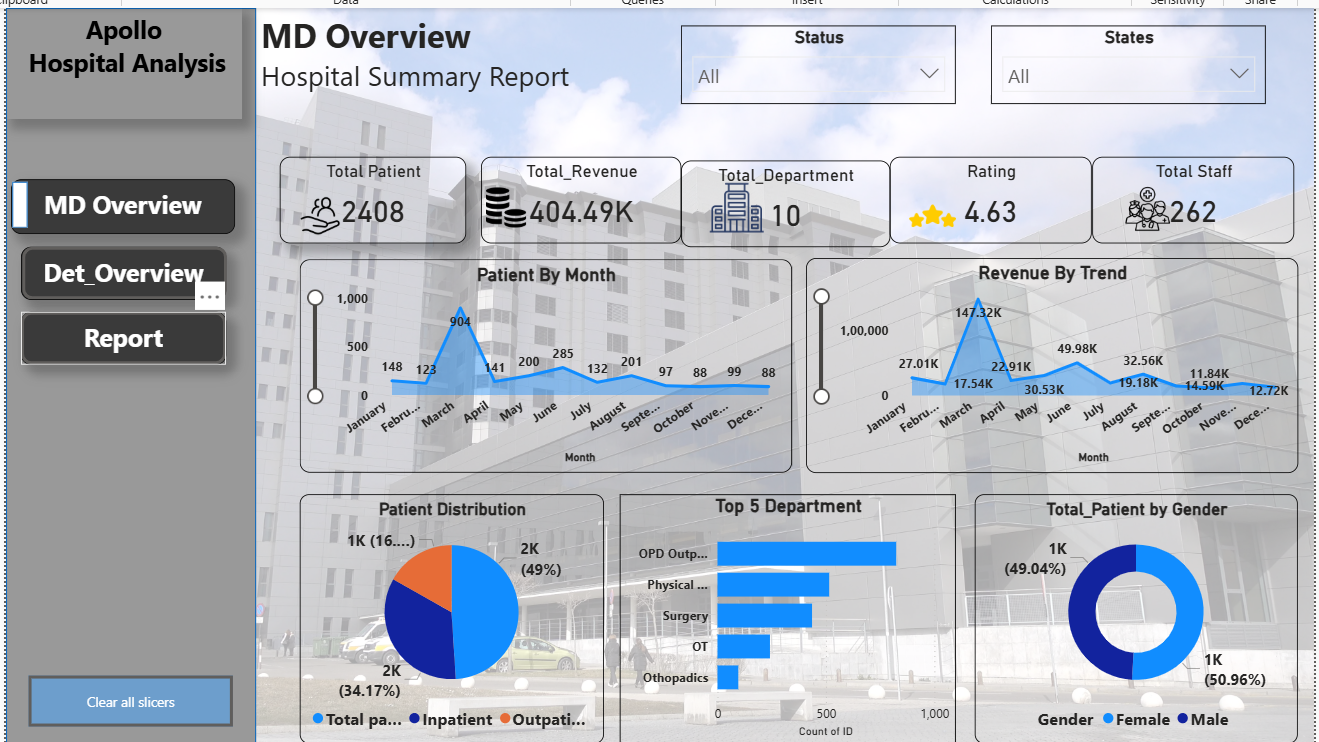

Layout of this report page (visuals, bound fields, positions):
{"tool":"powerbi","page":{"name":"MD Overview","canvas":[1280,720],"ordinal":0},"visuals":[{"type":"card","title":"Total Patient","fields":{"Values":["All Measure.Total patient"]},"box":[268.4,145.6,182.5,85.2],"z":0},{"type":"textbox","box":[244,0,379.3,108.6],"z":1000},{"type":"card","title":"Total_Revenue","fields":{"Values":["All Measure.Total_Treatment"]},"box":[464.2,145,196.2,85.1],"z":2000},{"type":"card","title":"Total_Department","fields":{"Values":["All Measure.Total_dept"]},"box":[660.4,148.9,204.5,85.1],"z":3000},{"type":"card","title":"Rating","fields":{"Values":["All Measure.Rating"]},"box":[864.9,145,197.6,85.1],"z":4000},{"type":"card","title":"Total Staff","fields":{"Values":["All Measure.Total_Staff"]},"box":[1062.5,145,197.6,85.1],"z":5000},{"type":"shape","box":[0,0,244.7,720.6],"z":6000},{"type":"image","box":[882.8,177,47.3,51.4],"z":7000},{"type":"image","box":[1073.4,173.3,86.5,46],"z":8000},{"type":"image","box":[688.1,162.1,52.7,66.2],"z":9000},{"type":"image","box":[469.1,167.5,39.2,55.4],"z":10000},{"type":"image","box":[287.4,178.8,40.1,50.1],"z":11000},{"type":"textbox","box":[0,0,230.6,108.6],"z":12000},{"type":"textbox","box":[5,167.1,218.9,53.5],"z":13000},{"type":"textbox","box":[15,233.9,200.5,51.8],"z":14000},{"type":"donutChart","title":"Total_Patient by Gender","fields":{"Category":["Detail data dataset.Gender"],"Y":["All Measure.Total patient"]},"box":[947.5,476.2,315.8,244],"z":15000},{"type":"lineChart","title":"Revenue By Trend","fields":{"Category":["Detail data dataset.Date.Variation.Date Hierarchy.Month"],"Y":["All Measure.Total_Treatment"]},"box":[782,244,481.3,210.5],"z":16000},{"type":"lineChart","title":"Patient By Month","fields":{"Category":["Detail data dataset.Date.Variation.Date Hierarchy.Month"],"Y":["CountNonNull(Detail data dataset.ID)"]},"box":[287.4,245.6,481.3,208.9],"z":17000},{"type":"pieChart","title":"Patient Distribution","fields":{"Y":["All Measure.Total patient","All Measure.Total_Inpatient","All Measure.Total_outpatient"]},"box":[287.4,476.2,297.4,244],"z":18000},{"type":"clusteredBarChart","title":"Top 5 Department","fields":{"Category":["Department.Department_Name"],"Y":["CountNonNull(Detail data dataset.ID)"]},"box":[599.9,476.2,329.2,244],"z":19000},{"type":"slicer","title":"Status","fields":{"Values":["Detail data dataset.Status"]},"box":[660.1,16.7,269,76.9],"z":20000},{"type":"slicer","title":"States","fields":{"Values":["Detail data dataset.State"]},"box":[964.2,16.7,269,76.9],"z":21000},{"type":"textbox","box":[15,297.4,200.5,51.8],"z":22000},{"type":"actionButton","box":[21.7,653.4,200,50],"z":23000},{"type":"shape","box":[6.7,170.4,15,45.1],"z":24000},{"type":"actionButton","box":[15.3,233.7,200.3,51.5],"z":25000},{"type":"actionButton","box":[14.7,297.1,200.5,51.4],"z":25001}]}

Visuals, with their boxes on the page's 1280x720 design canvas (x1, y1, x2, y2). These are canvas units, not pixel positions in the 1319x742 screenshot, which may show the page scaled, cropped or inside an application window:
"Total Patient" card: region(268, 146, 451, 231)
textbox: region(244, 0, 623, 109)
"Total_Revenue" card: region(464, 145, 660, 230)
"Total_Department" card: region(660, 149, 865, 234)
"Rating" card: region(865, 145, 1062, 230)
"Total Staff" card: region(1062, 145, 1260, 230)
shape: region(0, 0, 245, 721)
image: region(883, 177, 930, 228)
image: region(1073, 173, 1160, 219)
image: region(688, 162, 741, 228)
image: region(469, 168, 508, 223)
image: region(287, 179, 328, 229)
textbox: region(0, 0, 231, 109)
textbox: region(5, 167, 224, 221)
textbox: region(15, 234, 216, 286)
"Total_Patient by Gender" donutChart: region(948, 476, 1263, 720)
"Revenue By Trend" lineChart: region(782, 244, 1263, 454)
"Patient By Month" lineChart: region(287, 246, 769, 454)
"Patient Distribution" pieChart: region(287, 476, 585, 720)
"Top 5 Department" clusteredBarChart: region(600, 476, 929, 720)
"Status" slicer: region(660, 17, 929, 94)
"States" slicer: region(964, 17, 1233, 94)
textbox: region(15, 297, 216, 349)
actionButton: region(22, 653, 222, 703)
shape: region(7, 170, 22, 216)
actionButton: region(15, 234, 216, 285)
actionButton: region(15, 297, 215, 348)
